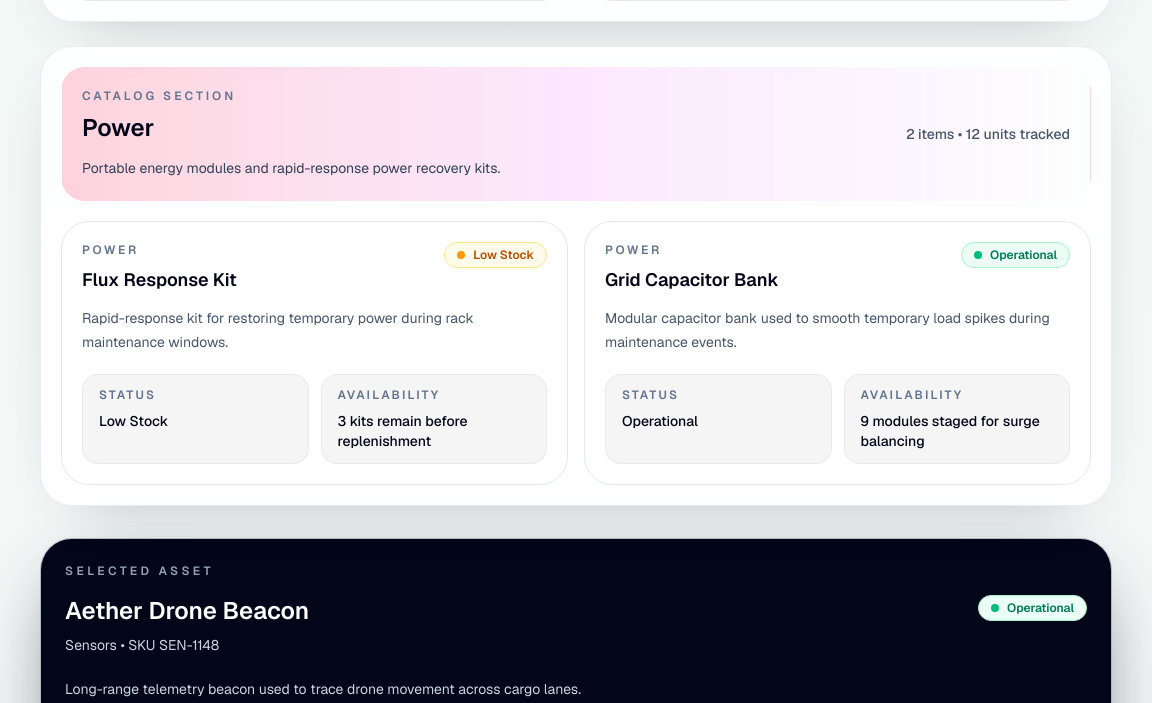
Test case: AssetInventoryPage › updates the detail panel when a different inventory card is selected
(page scrolled)
Click the button "Flux Response Kit".
click(110, 250)  # box [61,221,568,485]
(page scrolled)
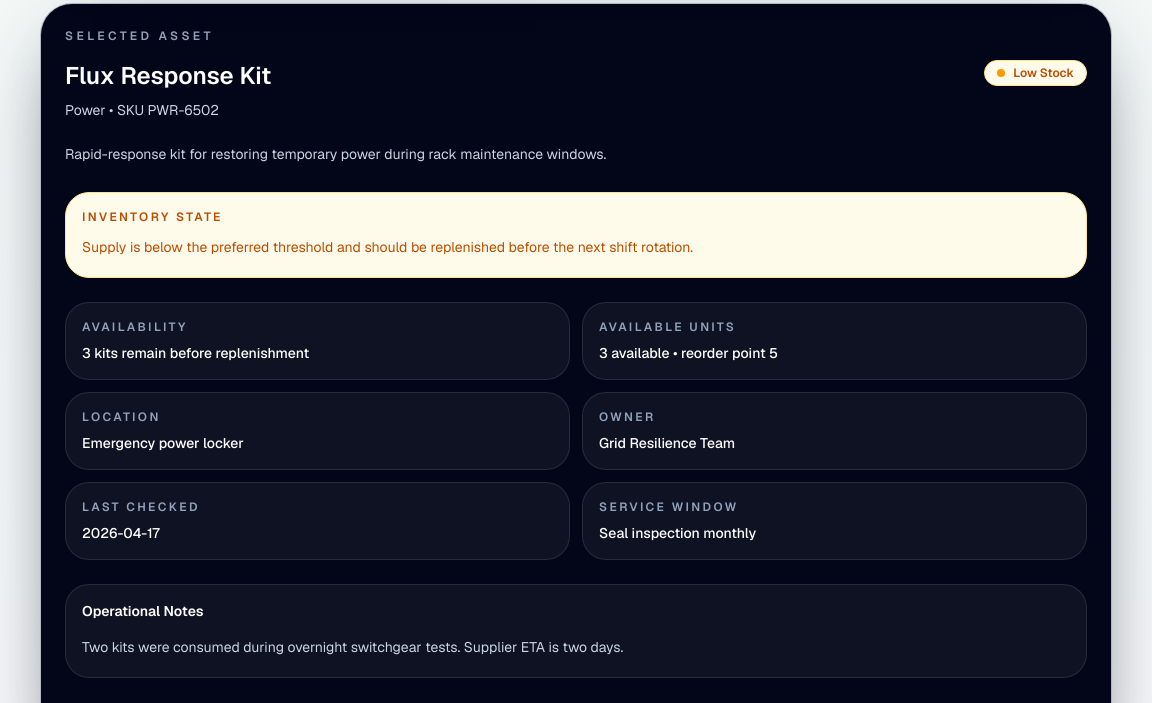
Result: the heading "Flux Response Kit" is shown at [65,60,271,92]
Result: the text "Emergency power locker" is shown at [82,434,244,452]
Result: the text "3 kits remain before replenishment" is shown at [82,344,309,362]
